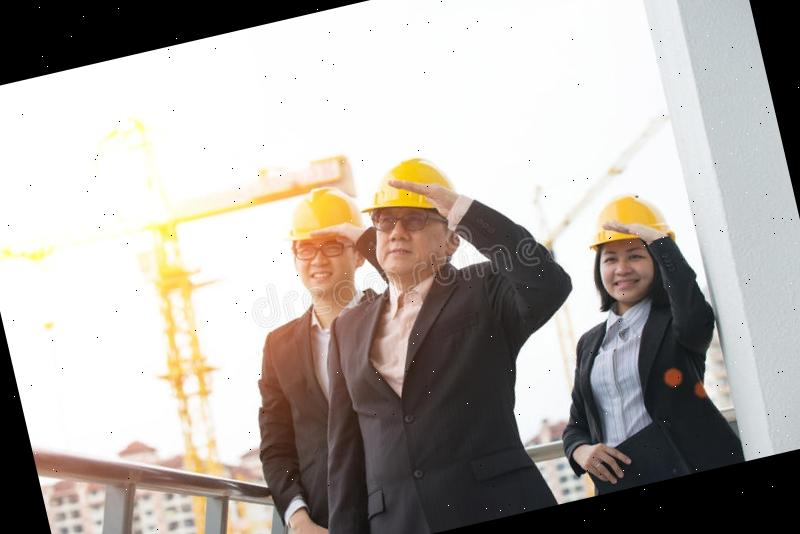helmet: (353, 148, 464, 226), (579, 188, 676, 258), (274, 182, 368, 254)
no_wear: (319, 268, 546, 534), (572, 300, 734, 492), (242, 316, 358, 504)
